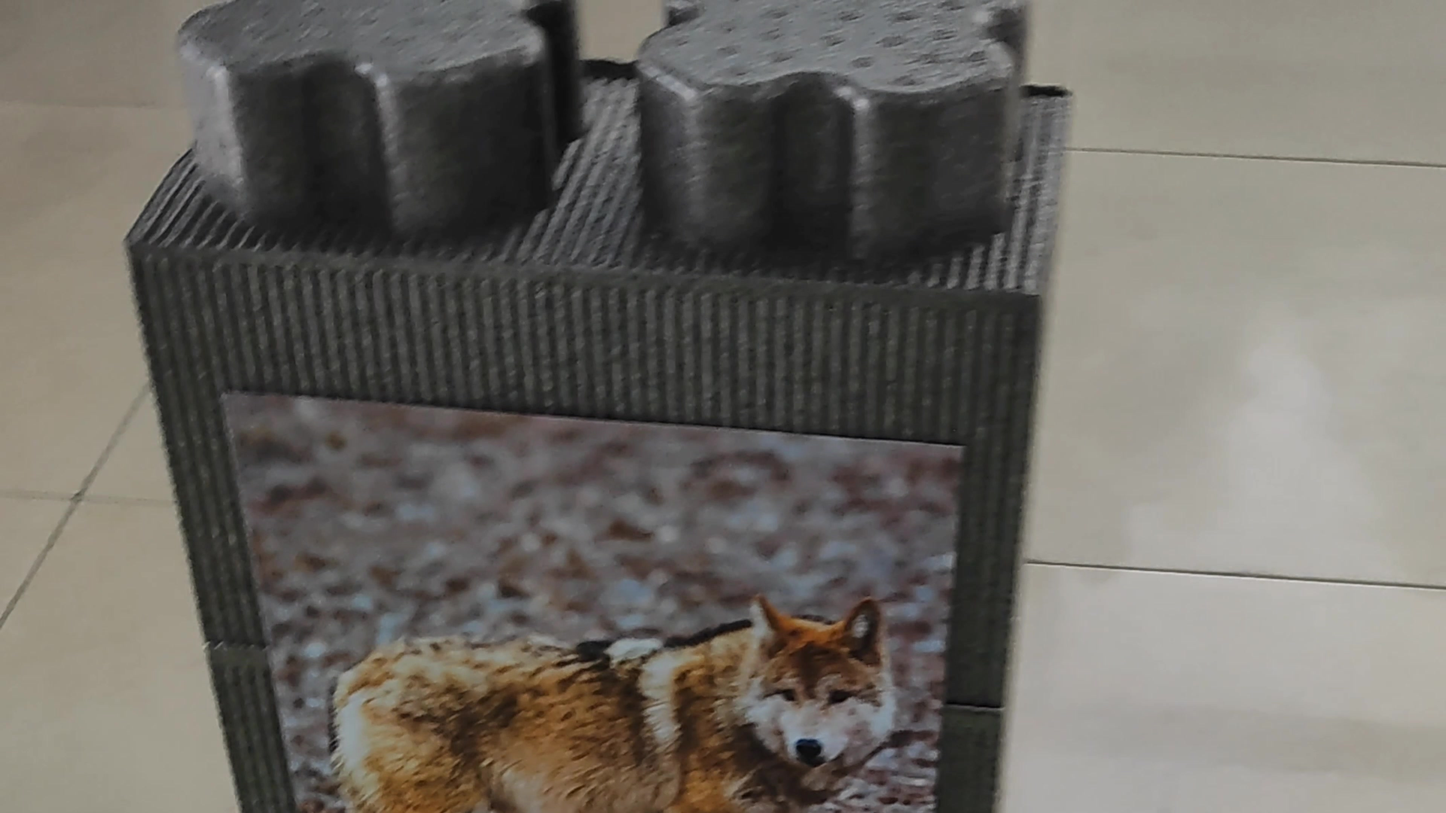wolf: (252, 404, 921, 811)
